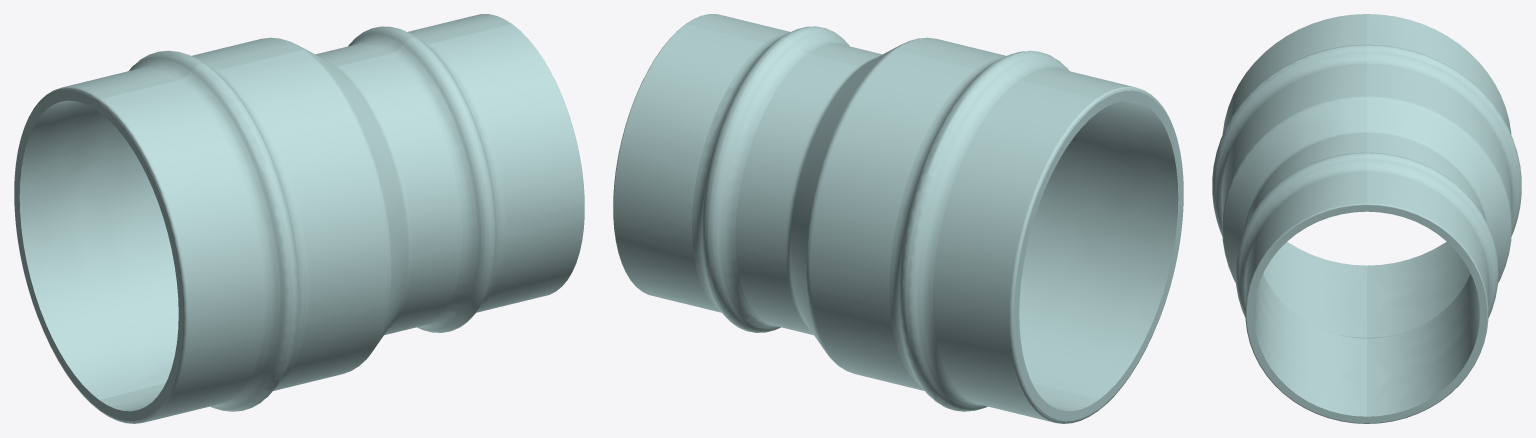
The picture shows the model from 3 angles, left to right: view 1: azimuth 30°, elevation 25°; view 2: azimuth 150°, elevation 25°; view 3: azimuth 270°, elevation 25°; orthographic projection. The views are drawn at different scales.
Size of the model in its own units: 143 by 110 by 110.
